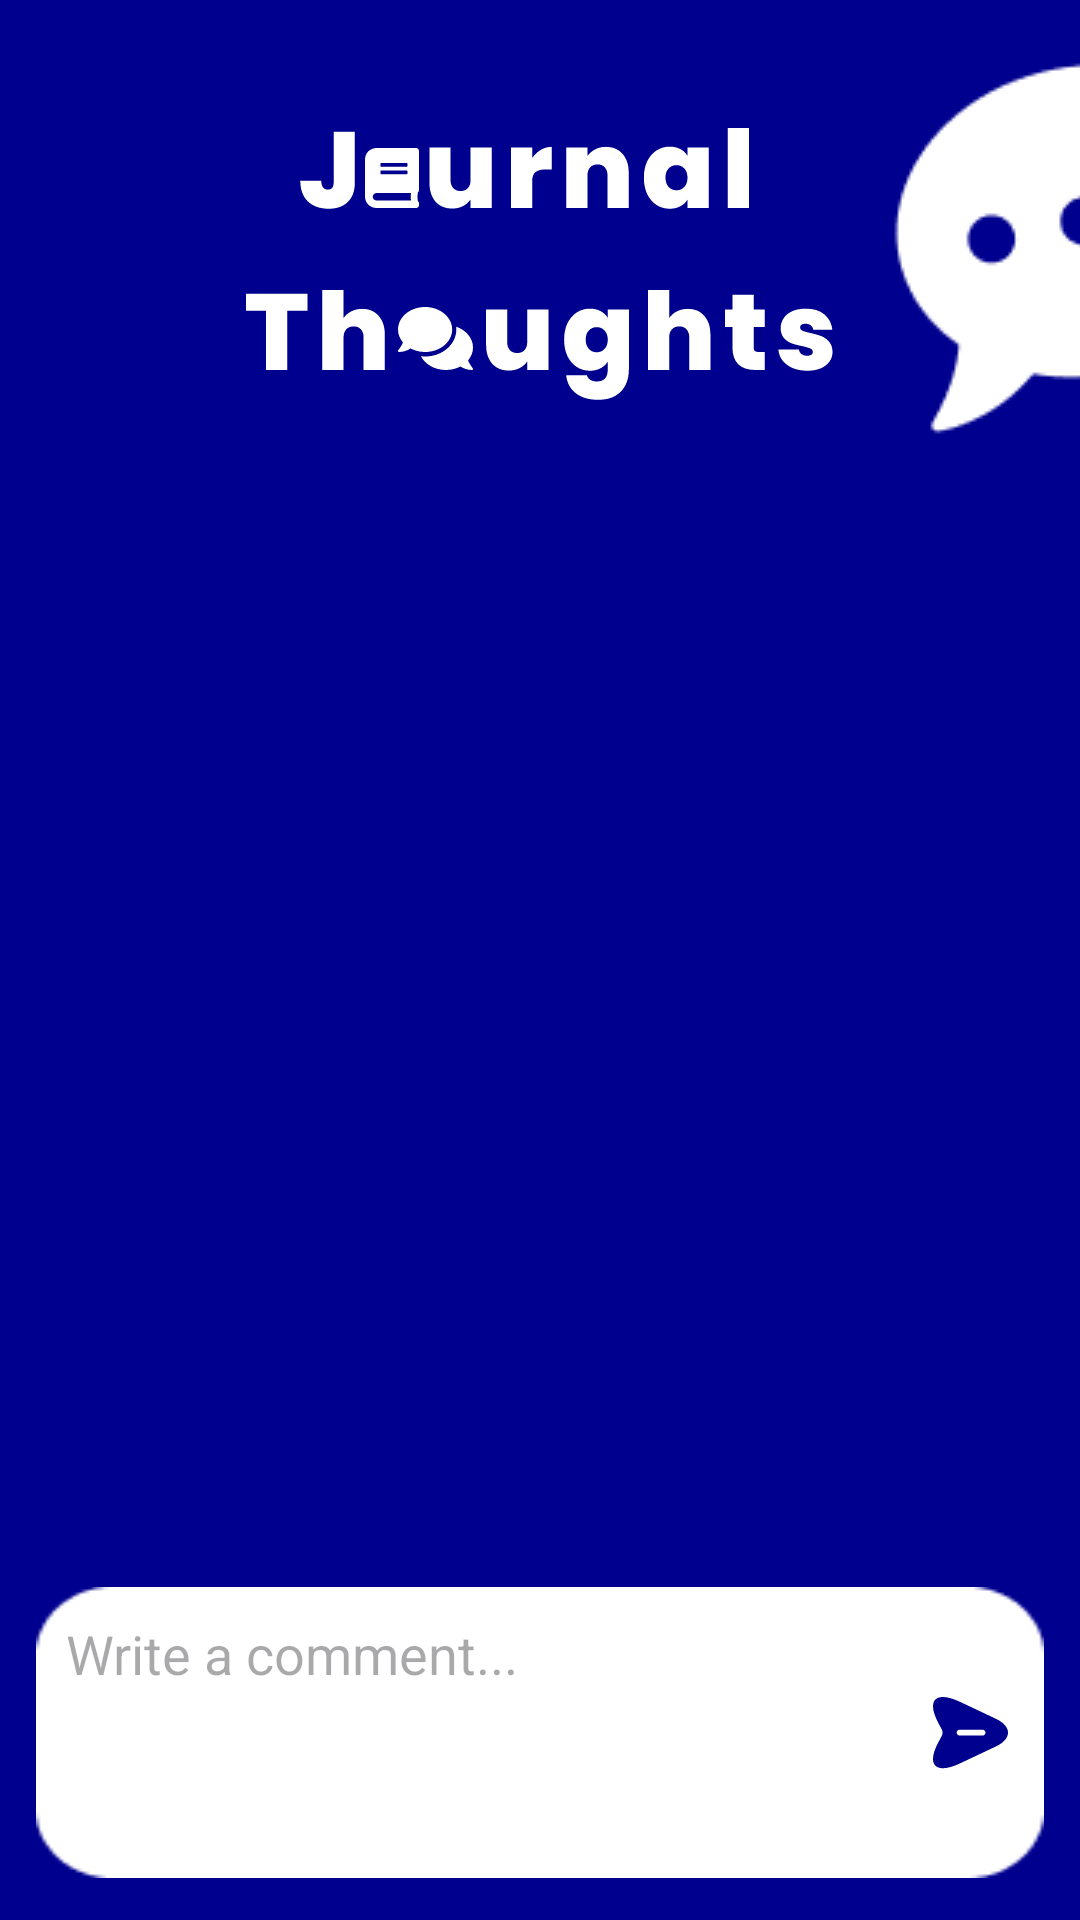

Where to tap for icons on this 1080×1920 app screen, as (x,y):
sendicon: (970,1733)
